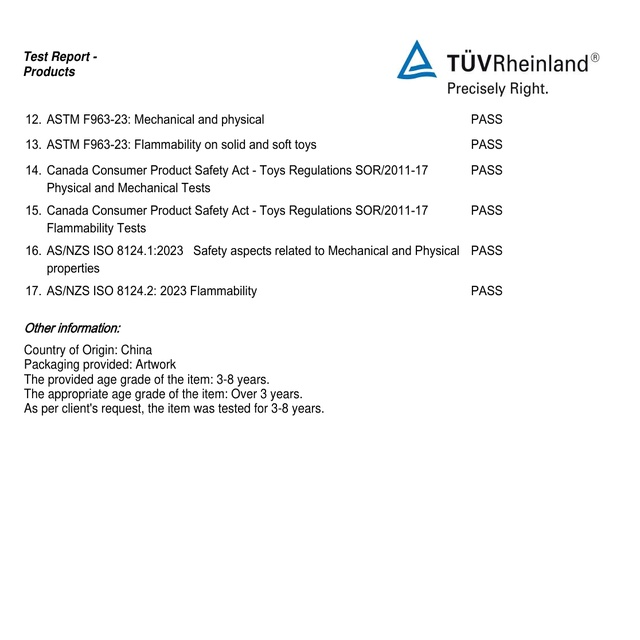tuv_rheinland: (392, 39, 607, 84)
